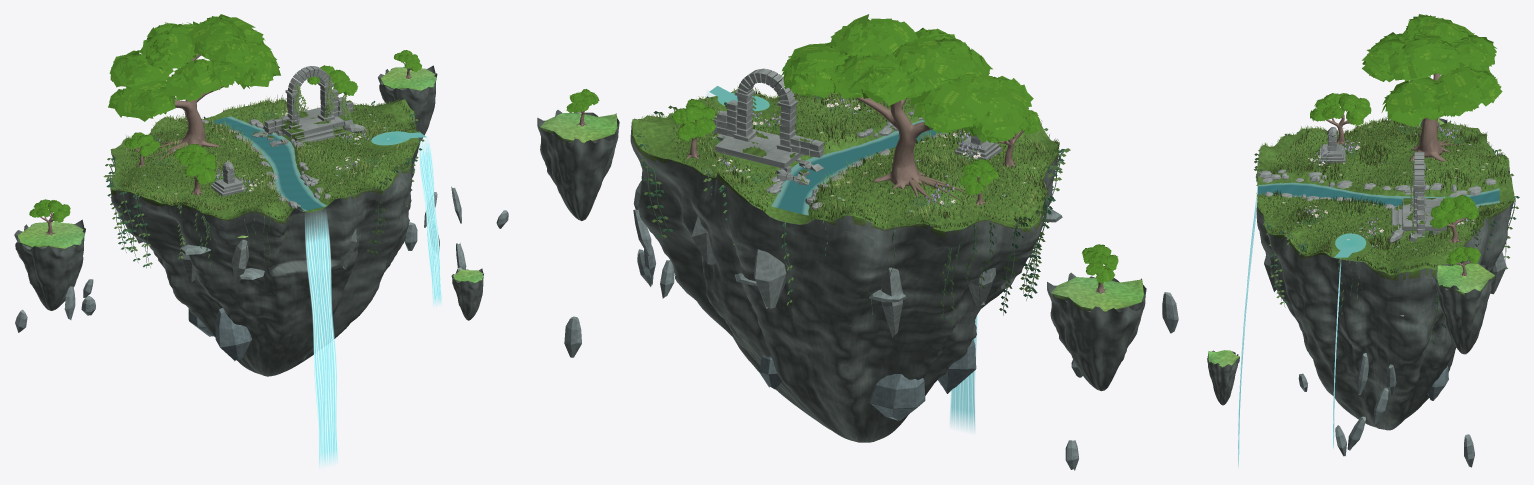
File: owner-rim-v4.glb
3 views of the same model, side by side, from view 1: azimuth 30°, elevation 25°; view 2: azimuth 150°, elevation 25°; view 3: azimuth 270°, elevation 25° (orthographic). The views are drawn at different scales.
Parts seen in each view (by area): view 1: Main Cliff, Main Meadow, GreatTree Canopy, Meadow low grass, Waterfall Main, Meadow high grass, Satellite West Cliff, River winding jade water, Waterfall Spring, Satellite East Cliff, Cliff vine leaves, Satellite West Meadow (+15 smaller); view 2: Main Cliff, Main Meadow, GreatTree Canopy, Meadow low grass, Satellite West Cliff, Satellite East Cliff, Meadow high grass, River winding jade water, Cliff vine leaves, GreatTree Wood, Satellite West Meadow, Cliff lower fracture (+12 smaller); view 3: Main Cliff, Main Meadow, GreatTree Canopy, Meadow low grass, Meadow high grass, Satellite East Cliff, River winding jade water, Grove front Canopy, Satellite East Meadow, Grove right Canopy, Meadow rim grass, GreatTree Wood (+13 smaller).
Boxes of the visible parts, box(x1,y1,x2,y2) form: Main Cliff: box(111, 99, 418, 376); Main Meadow: box(110, 99, 418, 220); GreatTree Canopy: box(108, 14, 280, 121); Meadow low grass: box(120, 98, 414, 211); Waterfall Main: box(305, 212, 337, 467); Meadow high grass: box(125, 95, 415, 210); Satellite West Cliff: box(14, 219, 85, 310); River winding jade water: box(210, 116, 326, 211); Waterfall Spring: box(419, 138, 442, 306); Satellite East Cliff: box(378, 65, 437, 143); Cliff vine leaves: box(103, 101, 424, 267); Satellite West Meadow: box(17, 221, 84, 248); Main Cliff: box(630, 89, 1059, 442); Main Meadow: box(632, 89, 1059, 231); GreatTree Canopy: box(781, 14, 1033, 139); Meadow low grass: box(671, 92, 1053, 223); Satellite West Cliff: box(1047, 272, 1146, 391); Satellite East Cliff: box(537, 110, 619, 220); Meadow high grass: box(703, 84, 1048, 221); River winding jade water: box(771, 120, 941, 215); Cliff vine leaves: box(632, 89, 1070, 324); GreatTree Wood: box(856, 96, 932, 189); Satellite West Meadow: box(1051, 277, 1143, 311); Cliff lower fracture: box(869, 374, 925, 421); Main Cliff: box(1256, 123, 1514, 430); Main Meadow: box(1256, 120, 1514, 275); GreatTree Canopy: box(1362, 14, 1502, 126); Meadow low grass: box(1262, 119, 1505, 264); Meadow high grass: box(1262, 116, 1506, 251); Satellite East Cliff: box(1434, 263, 1495, 354); River winding jade water: box(1257, 182, 1499, 206); Grove front Canopy: box(1310, 93, 1371, 125); Satellite East Meadow: box(1437, 263, 1494, 292); Grove right Canopy: box(1430, 194, 1479, 229); Meadow rim grass: box(1256, 118, 1512, 273); GreatTree Wood: box(1409, 73, 1450, 161).
Bounding box in the file's own units: 50.72 × 42.45 × 29.17.
11 materials, 7 textured.
